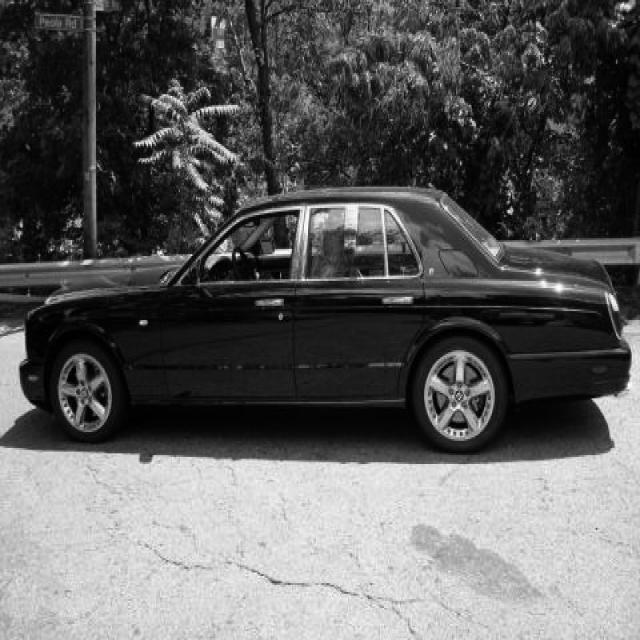car: (17, 182, 631, 452)
plat_license: (33, 11, 83, 30)
